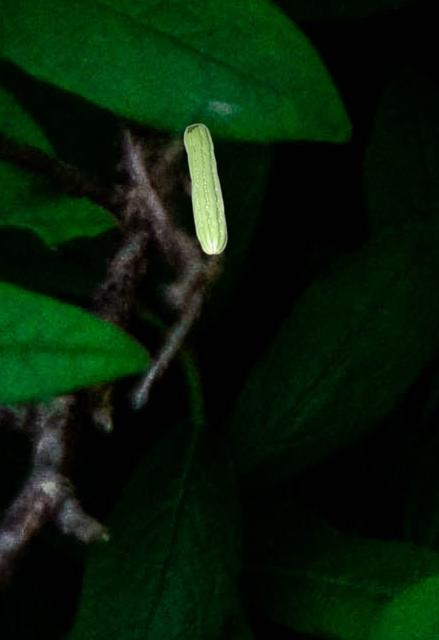ampalaya: (183, 122, 229, 256)
